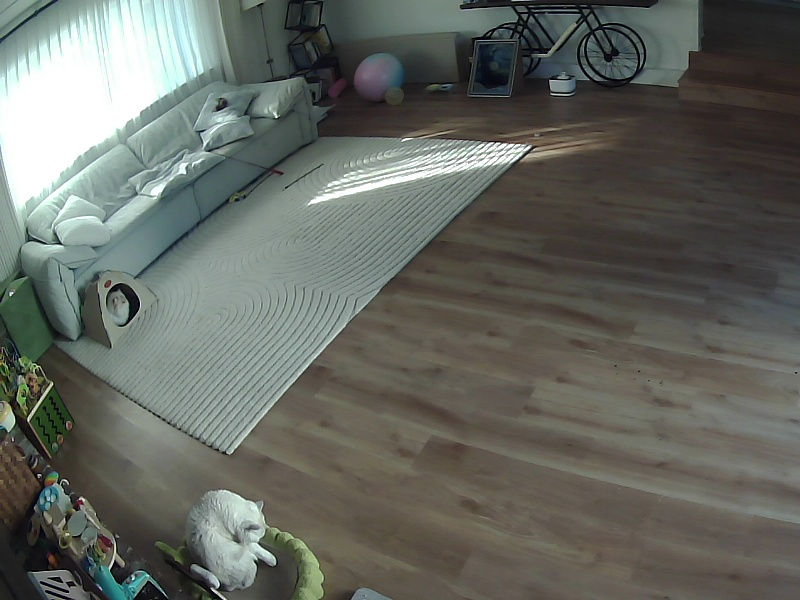Qb-2: (186, 490, 276, 589)
Qbo-2: (106, 289, 129, 325)
